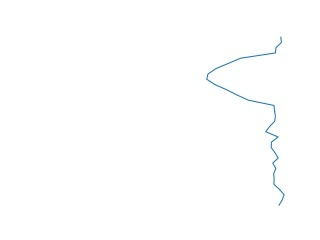distalBar: (202, 36, 289, 207)
